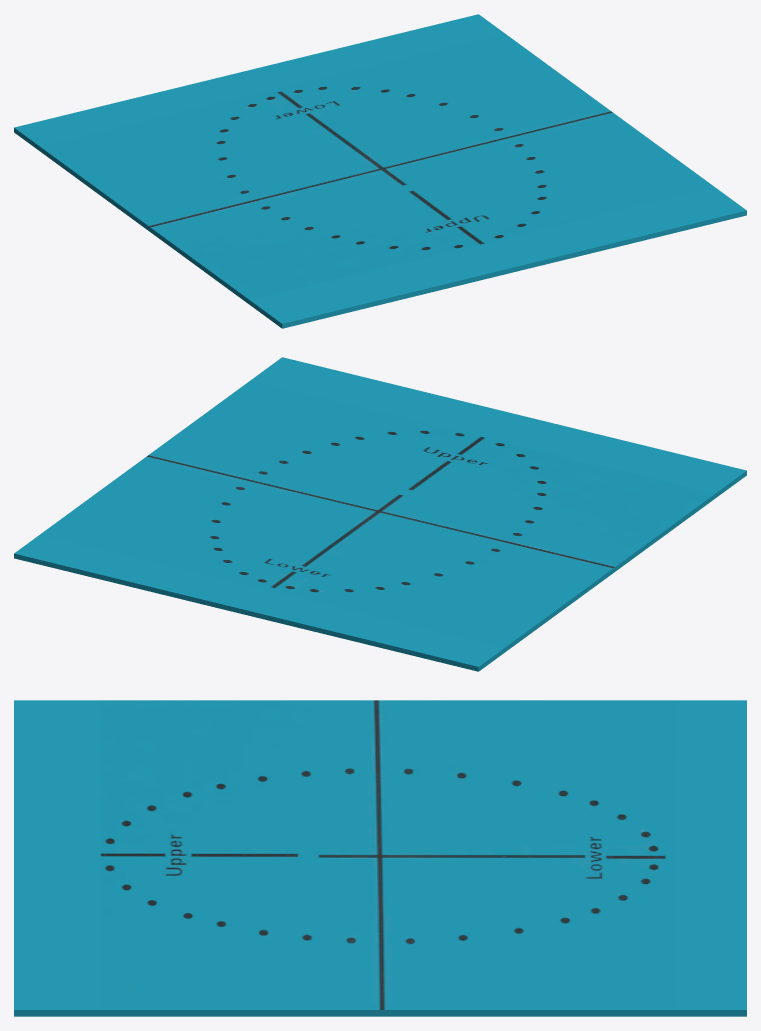
File: DigueDuCul.fbx
The picture shows the model from 3 angles, top to bottom: view 1: azimuth 30°, elevation 25°; view 2: azimuth 150°, elevation 25°; view 3: azimuth 270°, elevation 25°; orthographic projection. The views are drawn at different scales.
Parts seen in each view (by area): view 1: DigueMesh; view 2: DigueMesh; view 3: DigueMesh.
Part boxes in pixels (x1=…): DigueMesh: x1=14, y1=14, x2=746, y2=328; DigueMesh: x1=14, y1=357, x2=746, y2=671; DigueMesh: x1=14, y1=700, x2=746, y2=1016.
Bounding box in the file's own units: 0.1 × 0.001 × 0.1.
1 material, 1 textured.
